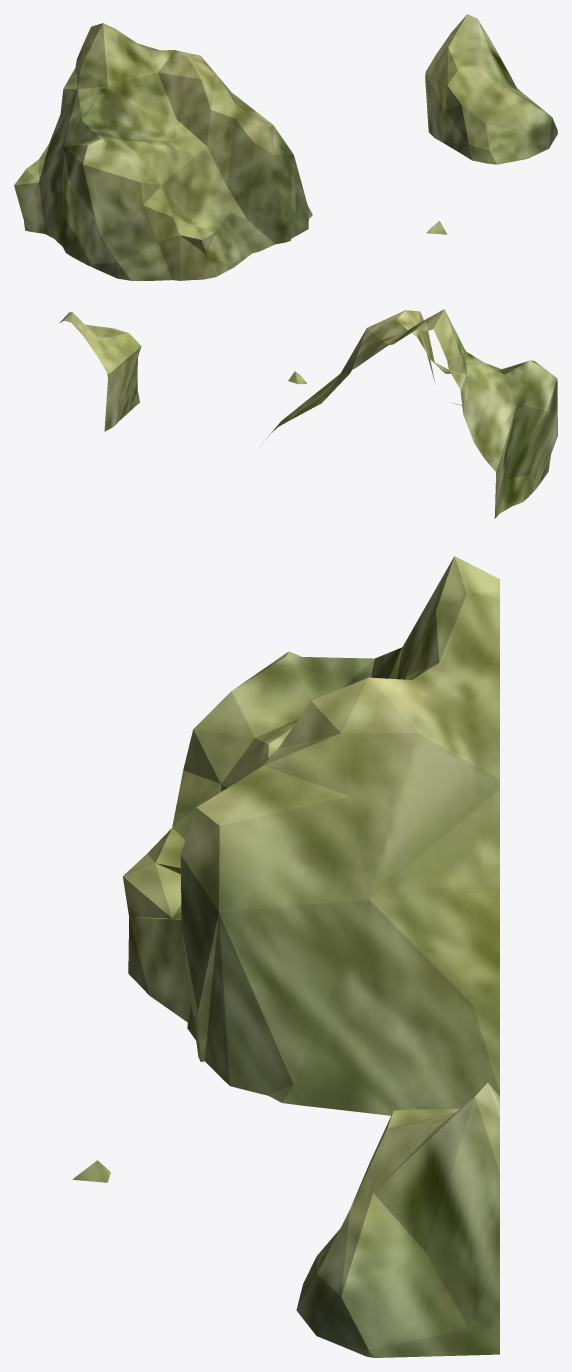
3 renders of one model, top to bottom at view 1: azimuth 30°, elevation 25°; view 2: azimuth 150°, elevation 25°; view 3: azimuth 270°, elevation 25°, orthographic. The views are drawn at different scales.
Size of the model in its own units: 3.67 by 1.37 by 1.37.
1 material, 1 textured.
